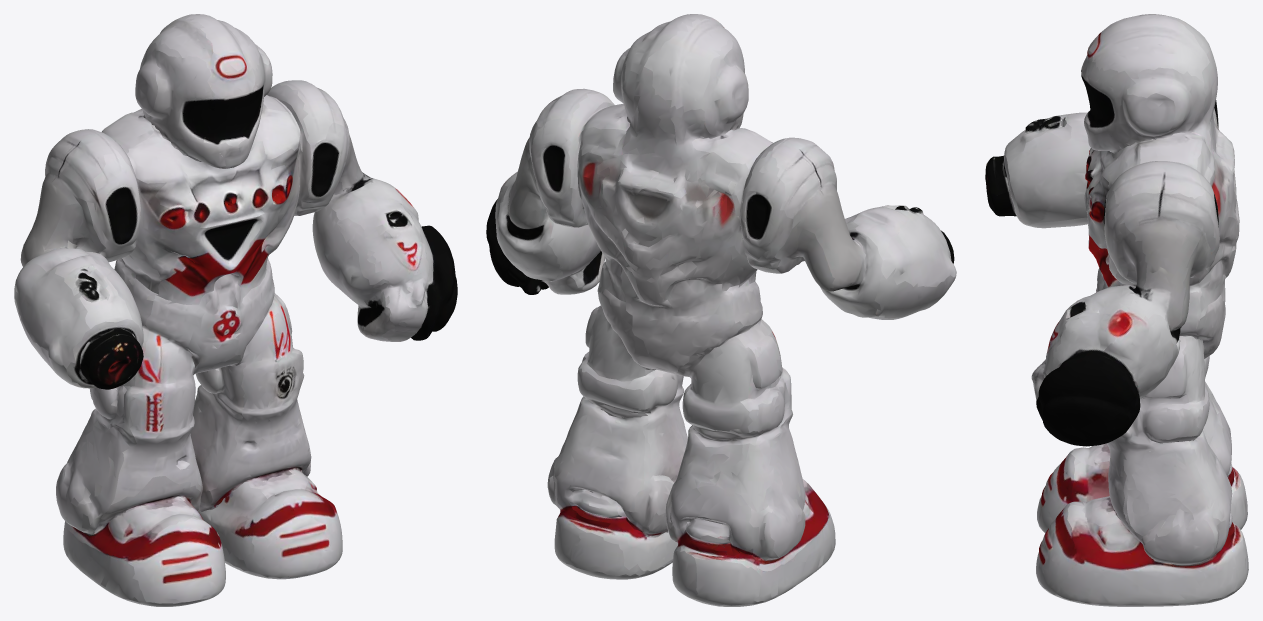
The picture shows the model from 3 angles, left to right: view 1: azimuth 30°, elevation 25°; view 2: azimuth 150°, elevation 25°; view 3: azimuth 270°, elevation 25°; orthographic projection.
Parts seen in each view (by area): view 1: textured_mesh; view 2: textured_mesh; view 3: textured_mesh.
Part boxes in pixels (x1,y1,x2,y2): textured_mesh: [14, 14, 457, 606]; textured_mesh: [486, 14, 956, 606]; textured_mesh: [985, 14, 1248, 606].
Bounding box in the file's own units: 1.62 × 1.99 × 0.862.
1 material, 1 textured.
